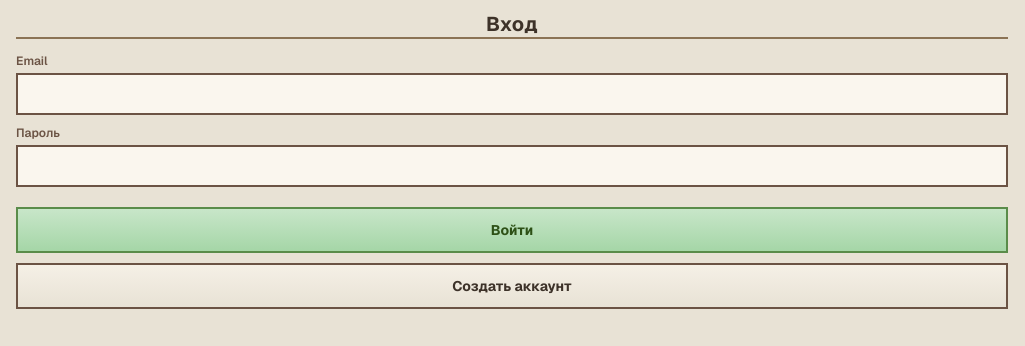
LoginView › показывает ошибку при некорректном email после blur
This screenshot has width=1025, height=346.
Type "not-an-email" into the field labelled "Email" at [512, 94], box [16,73,1008,115]
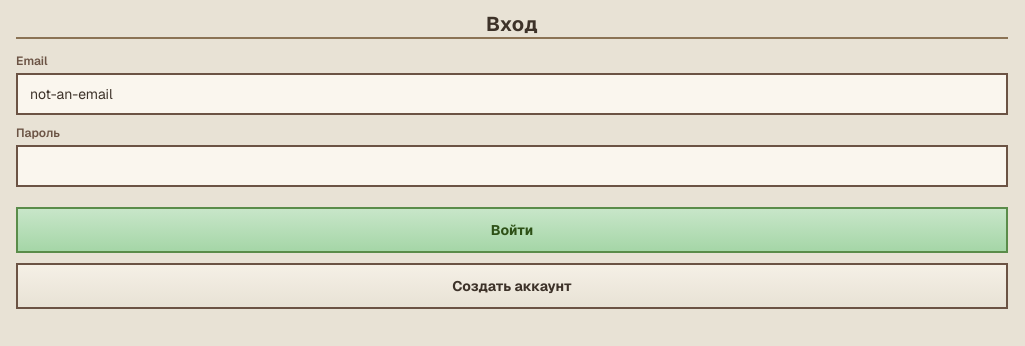
Leave the field labelled "Email", box [16,73,1008,115]
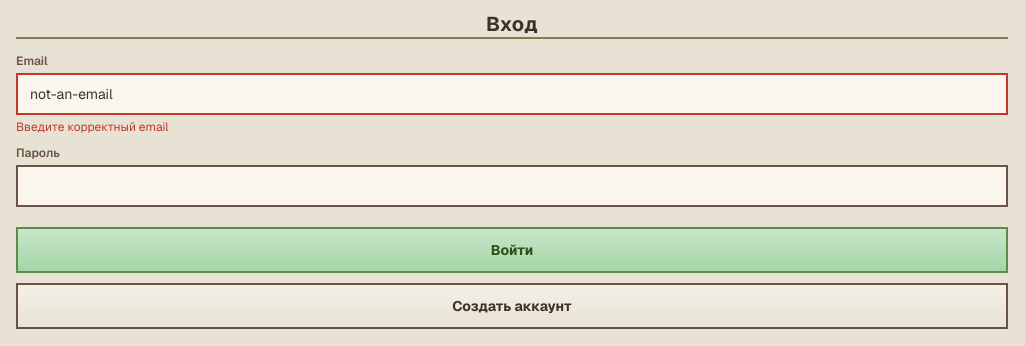
expect the text "Введите корректный email" is shown: met, box [16,119,168,135]
